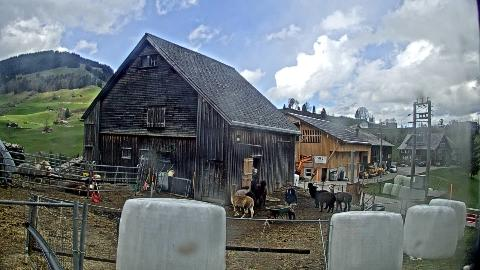car: (388, 166, 398, 172), (418, 161, 426, 167)
sheep: (16, 162, 50, 188), (230, 184, 254, 218), (66, 174, 102, 194), (311, 185, 336, 213), (328, 184, 352, 212), (246, 181, 268, 211), (308, 183, 330, 209), (236, 184, 254, 206), (73, 182, 102, 195), (254, 182, 266, 206), (252, 169, 258, 179)
